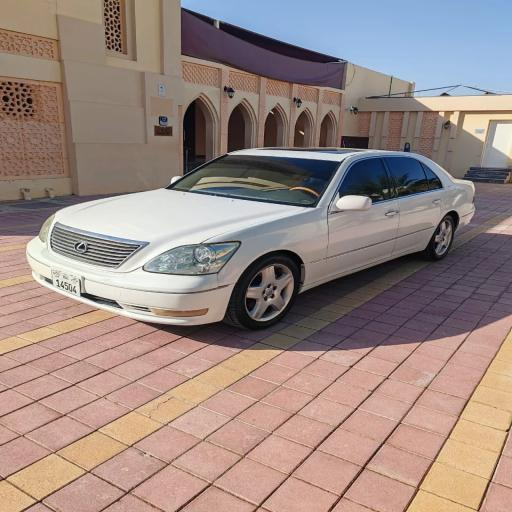license-plates: (51, 267, 80, 298)
